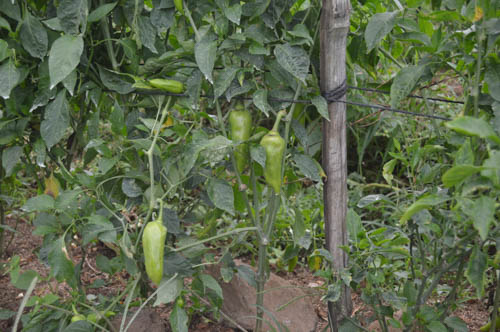ChiliPepper: (142, 222, 166, 282), (229, 110, 250, 175), (261, 136, 285, 191)
